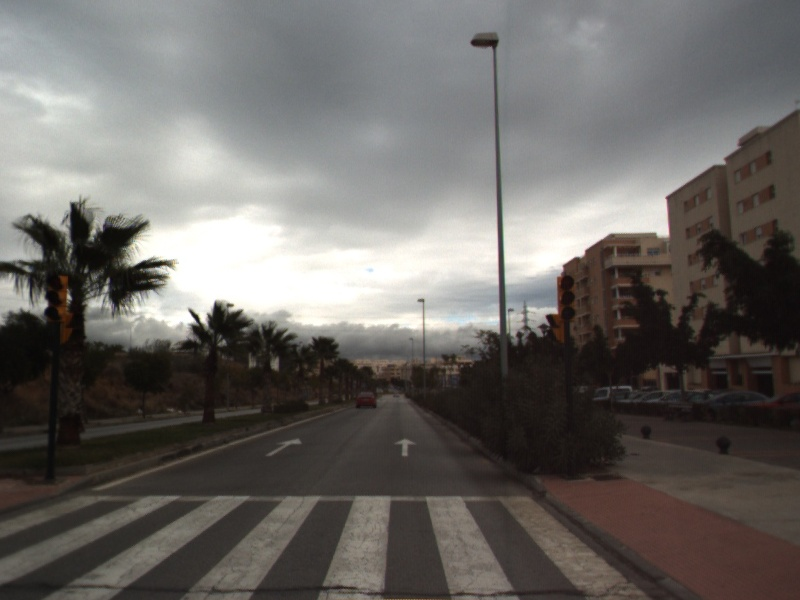STRAIGHT: (263, 436, 304, 458), (392, 436, 419, 458)
